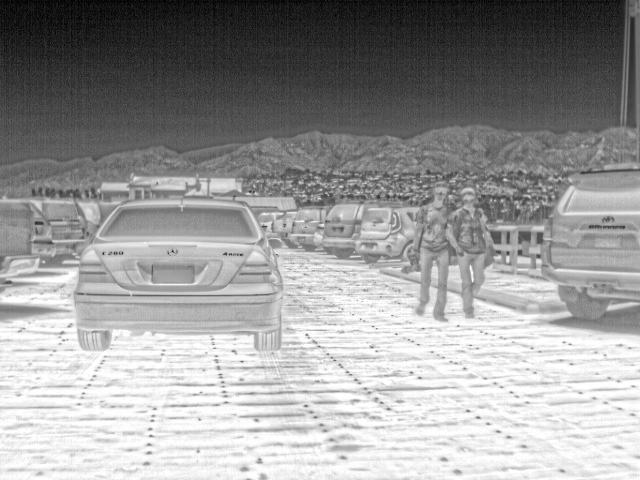car: (74, 195, 286, 351), (538, 160, 638, 320), (22, 197, 92, 268), (0, 200, 52, 276), (357, 206, 420, 264), (324, 204, 368, 257), (290, 206, 326, 252), (273, 208, 302, 250), (255, 210, 282, 247)
person: (444, 187, 494, 319), (409, 184, 454, 320)
